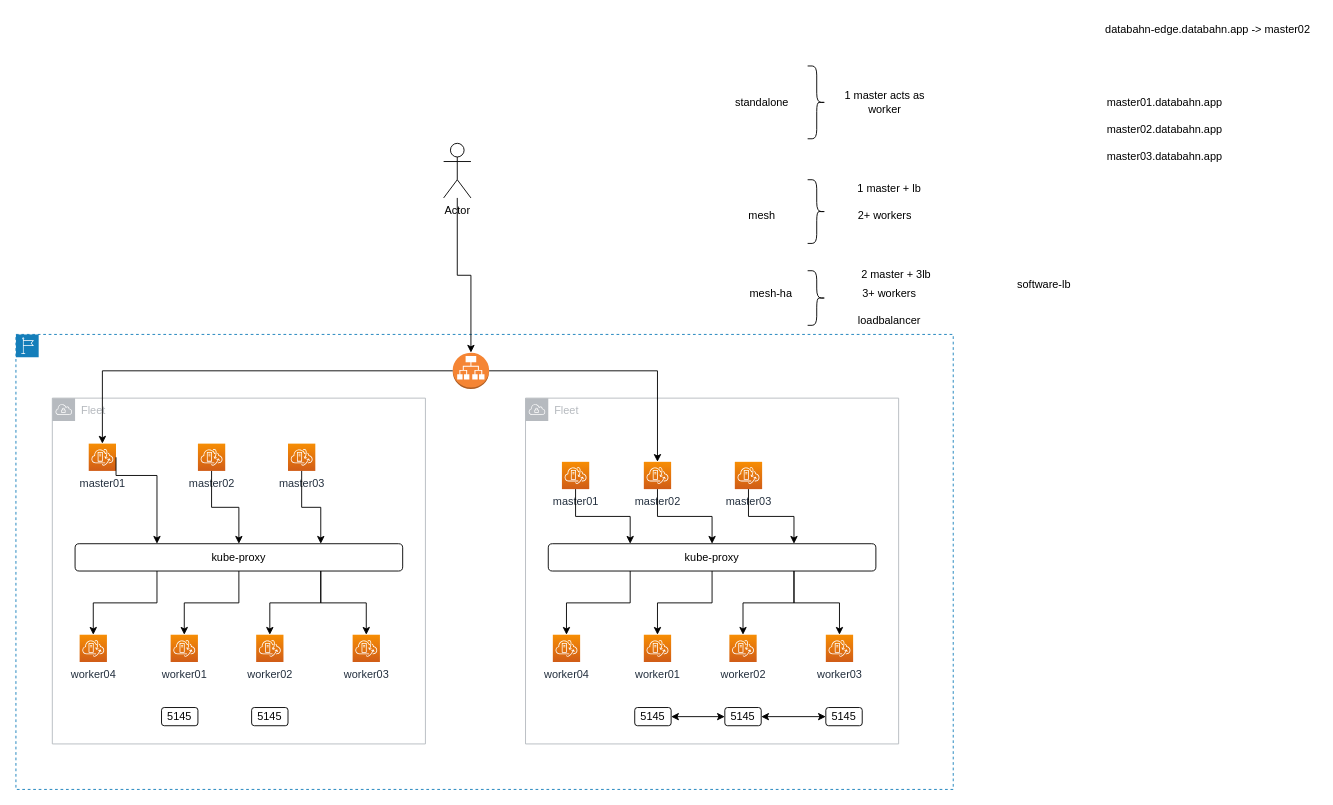
This 1333x805 diagram has some shape labels left out. The shapes that lost their labels are listed below. From the top down, each one's box as (x1, y1, x2, y2) in pixels, then its label:
(452, 352, 489, 389): SLB/LB
(15, 334, 953, 789): Edge Mesh
